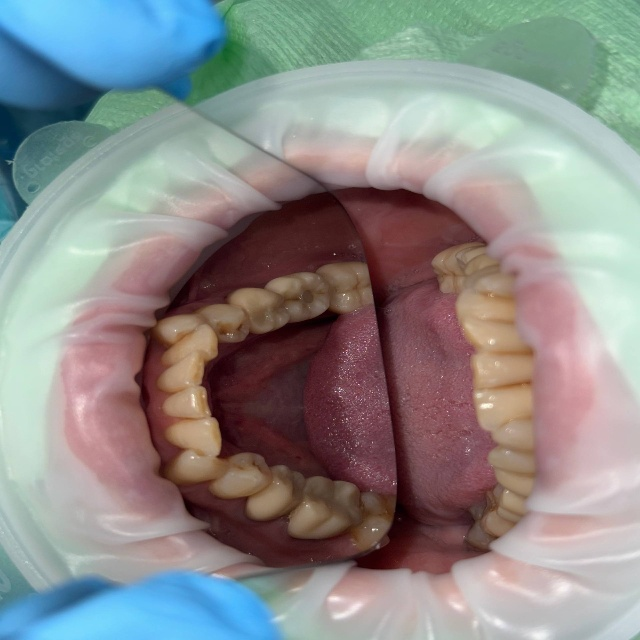clean_tooth: (457, 270, 516, 350), (474, 392, 533, 447), (162, 317, 210, 384), (479, 172, 539, 223), (87, 237, 139, 295), (179, 418, 217, 471), (489, 450, 534, 493), (474, 352, 514, 385), (406, 139, 466, 161), (250, 484, 285, 513), (221, 470, 261, 492)
plaque: (0, 0, 223, 142), (0, 569, 282, 639)
